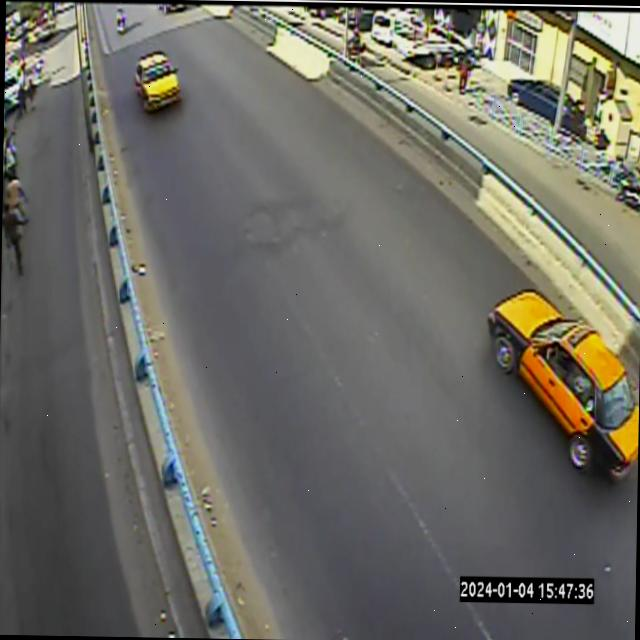car: (488, 288, 638, 478), (488, 290, 638, 479)
